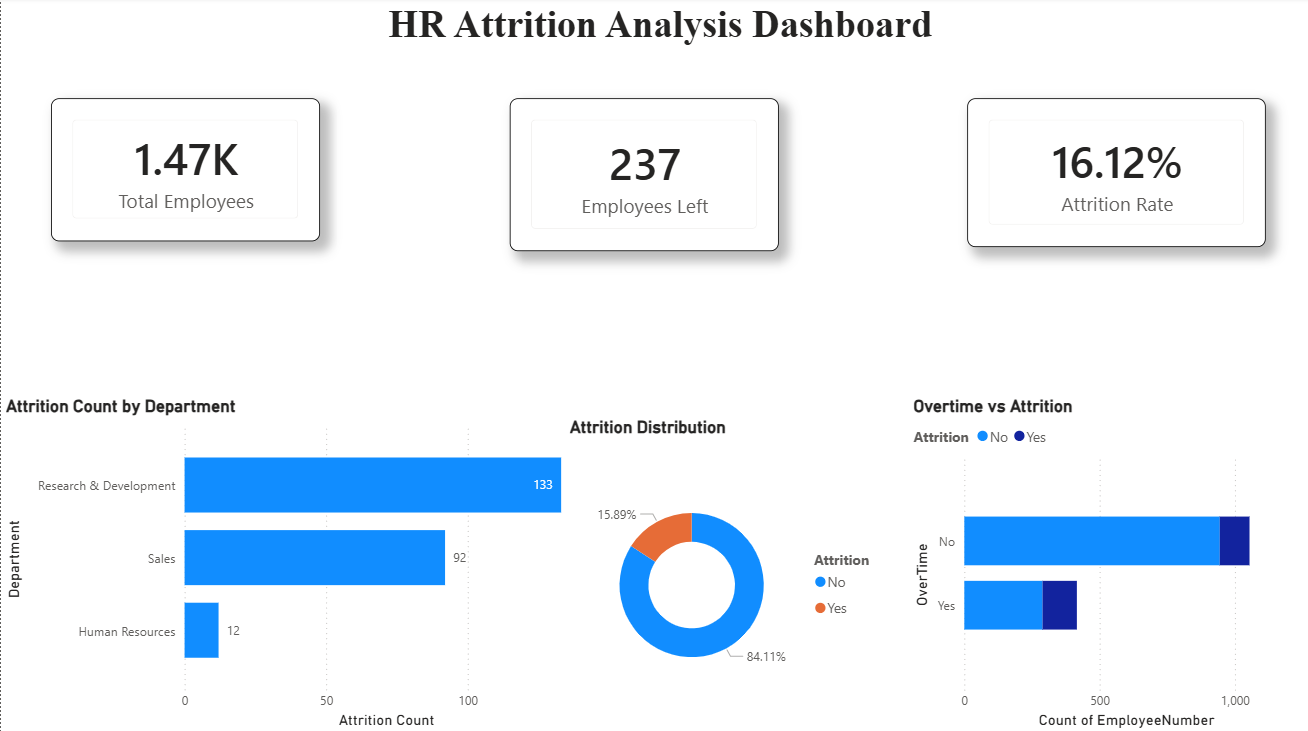

Layout of this report page (visuals, bound fields, positions):
{"tool":"powerbi","page":{"name":"Executive Overview","canvas":[1280,720],"ordinal":0},"visuals":[{"type":"textbox","box":[9.6,0,1270.7,68.6],"z":0},{"type":"cardVisual","fields":{"Data":["HR_Data.Total Employees"]},"box":[49.4,98.8,263.5,140],"z":1},{"type":"cardVisual","fields":{"Data":["HR_Data.Employees Left"]},"box":[497.4,98.8,263.5,149.6],"z":2},{"type":"cardVisual","fields":{"Data":["HR_Data.Attrition Rate"]},"box":[945.5,98.8,292.3,145.5],"z":3},{"type":"clusteredBarChart","fields":{"Category":["HR_Data.Department"],"Y":["HR_Data.Attrition Count"]},"box":[0,389.7,590.1,330.7],"z":4},{"type":"donutChart","title":"Attrition Distribution","fields":{"Category":["HR_Data.Attrition"],"Y":["Sum(HR_Data.EmployeeNumber)"]},"box":[551.6,410.3,319.7,310.1],"z":5},{"type":"barChart","title":"Overtime vs Attrition","fields":{"Category":["HR_Data.OverTime"],"Y":["CountNonNull(HR_Data.EmployeeNumber)"],"Series":["HR_Data.Attrition"]},"box":[887.8,389.7,392.5,330.7],"z":6}]}

Visuals, with their boxes in screenshot pixels (x1, y1, x2, y2), scaled from the page's 1280x720 canvas onto the 1308x731 screenshot:
textbox: <bbox>10, 0, 1307, 70</bbox>
cardVisual - HR_Data.Total Employees: <bbox>50, 100, 320, 242</bbox>
cardVisual - HR_Data.Employees Left: <bbox>508, 100, 778, 252</bbox>
cardVisual - HR_Data.Attrition Rate: <bbox>966, 100, 1265, 248</bbox>
clusteredBarChart - HR_Data.Department x HR_Data.Attrition Count: <bbox>0, 396, 603, 730</bbox>
"Attrition Distribution" donutChart: <bbox>564, 417, 890, 730</bbox>
"Overtime vs Attrition" barChart: <bbox>907, 396, 1307, 730</bbox>
